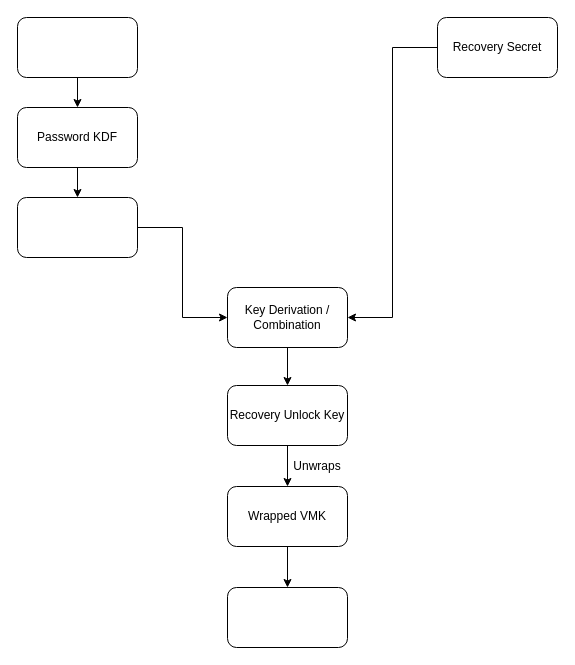
The diagram is 575 pixels wide and 665 high, and some of its shapes have lost their labels. The shapes that lost their labels are listed below. From the top down, each one's centre as x and y in pixels, then its label:
the point at 77,47: Password
the point at 77,227: Password-Derived Material
the point at 287,617: VMK
